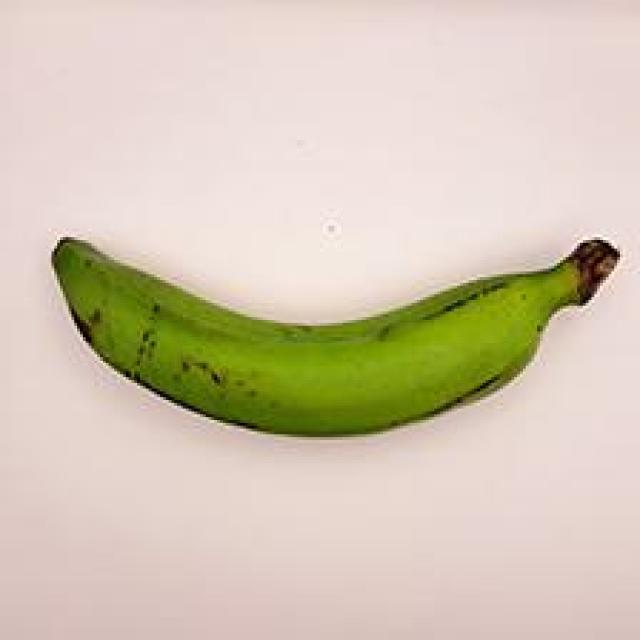Raw: (27, 179, 626, 454)
